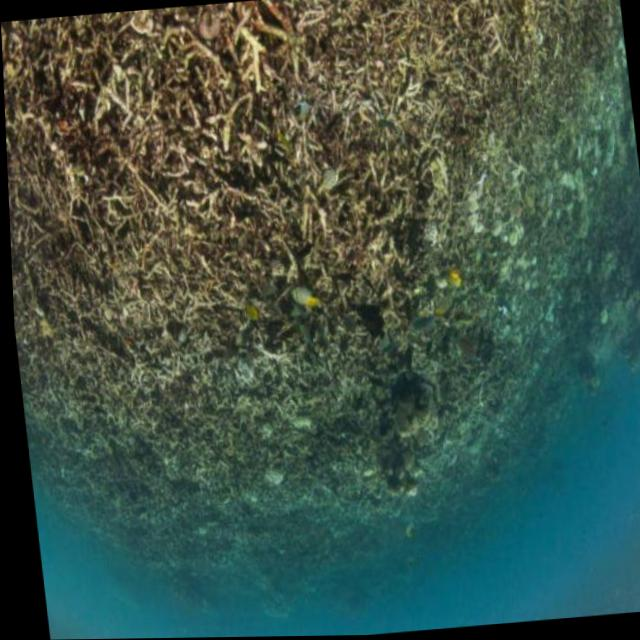Dead Coral: (1, 0, 633, 483)
